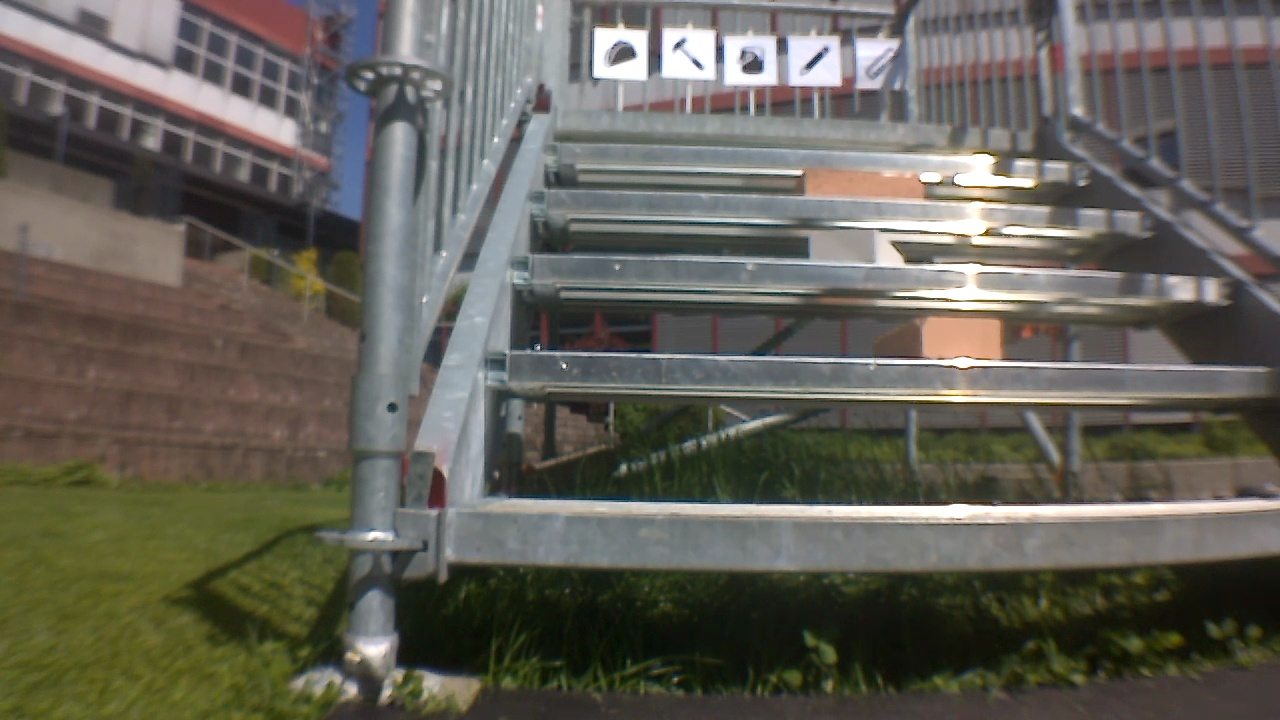brick: (916, 314, 1004, 359), (810, 226, 905, 264), (800, 172, 926, 199)
edge: (439, 499, 1280, 560), (520, 187, 1155, 242), (506, 255, 1226, 296), (485, 353, 1280, 390), (554, 103, 1051, 150), (538, 136, 1095, 171)
stairs: (342, 0, 1280, 664)
steps: (419, 109, 1280, 581)
